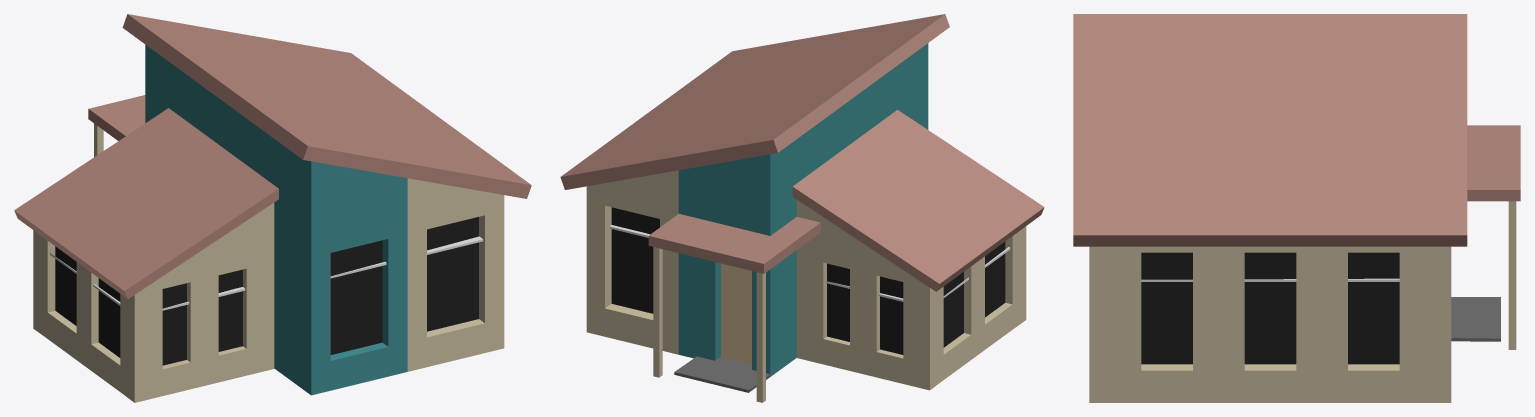
The model's file is ModernHouse.fbx.
3 views of the same model, side by side, from view 1: azimuth 30°, elevation 25°; view 2: azimuth 150°, elevation 25°; view 3: azimuth 270°, elevation 25° (orthographic). The views are drawn at different scales.
Visible parts, largest first — view 1: House; view 2: House; view 3: House.
Part boxes in pixels (left/top/right/bottom): House: left=14, top=14, right=531, bottom=402; House: left=560, top=14, right=1044, bottom=402; House: left=1073, top=14, right=1520, bottom=402.
Bounding box in the file's own units: 106 × 71.14 × 103.
